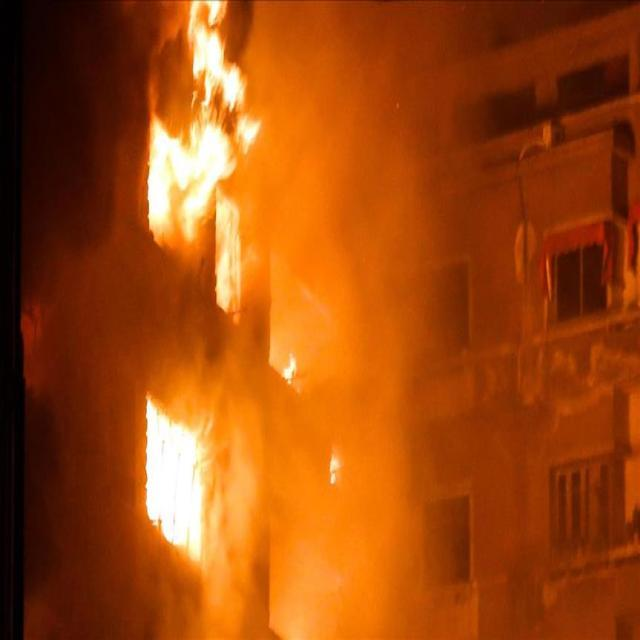Fire: (142, 0, 274, 247), (142, 393, 214, 580)
Smoke: (20, 0, 428, 640)
